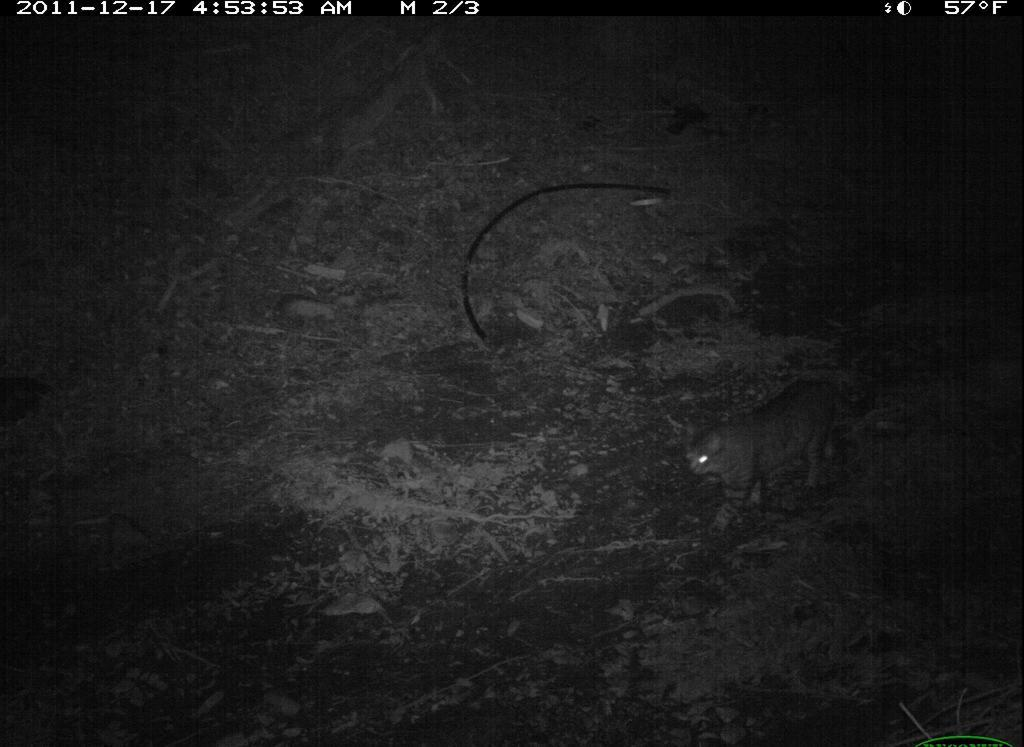cat: (683, 373, 872, 541)
